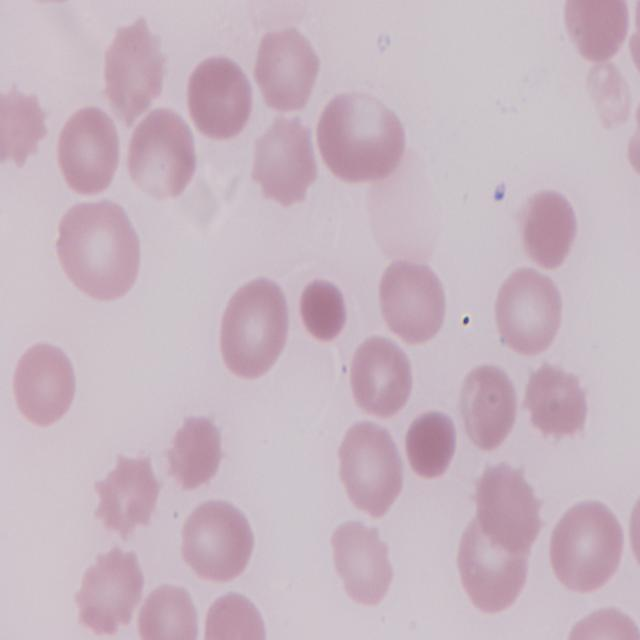RBC: (57, 197, 146, 304), (318, 86, 409, 184), (215, 274, 292, 382), (546, 498, 624, 598), (336, 421, 408, 521), (124, 106, 198, 203), (494, 261, 567, 359), (100, 22, 167, 128), (177, 494, 255, 584), (248, 110, 317, 209), (376, 255, 448, 348), (54, 102, 122, 200), (251, 23, 321, 118), (327, 512, 395, 608), (183, 53, 254, 144), (76, 544, 146, 635), (453, 358, 520, 452), (346, 332, 417, 418), (10, 340, 79, 428), (516, 185, 578, 274), (520, 366, 588, 446), (562, 0, 634, 63), (138, 581, 204, 640), (202, 587, 270, 640), (562, 606, 640, 640)
Spherocyte: (402, 410, 459, 483), (300, 276, 348, 344)
